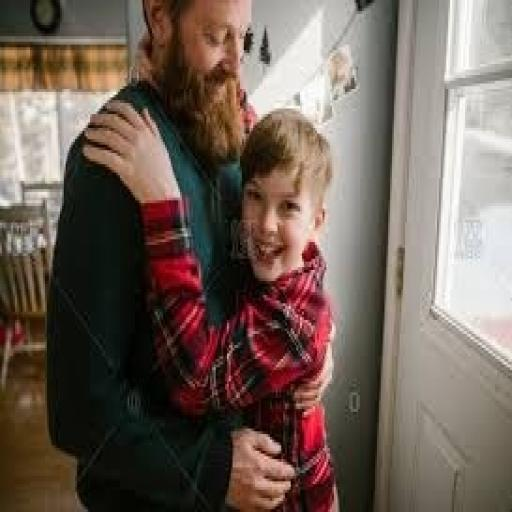hugging: (43, 0, 341, 509)
